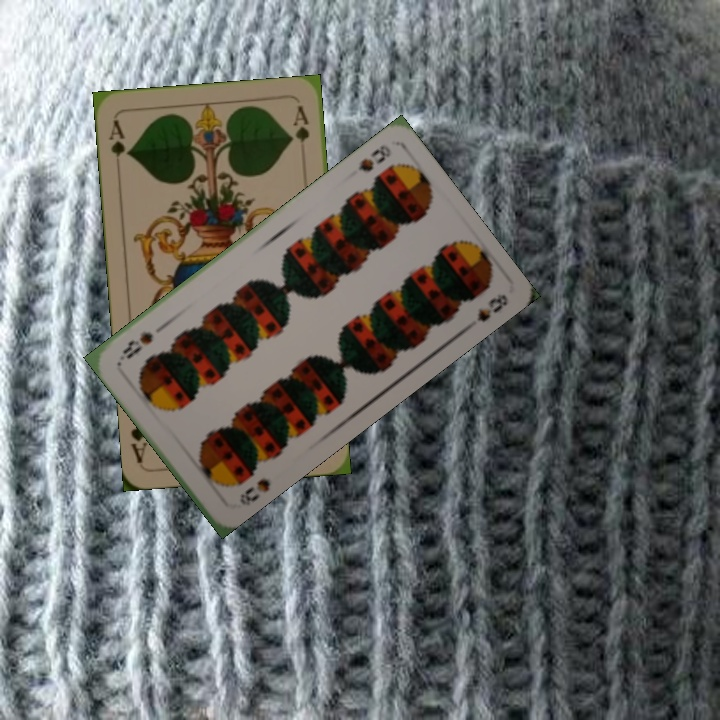GA: (104, 115, 131, 159)
S8: (353, 140, 394, 175), (235, 474, 273, 509)
